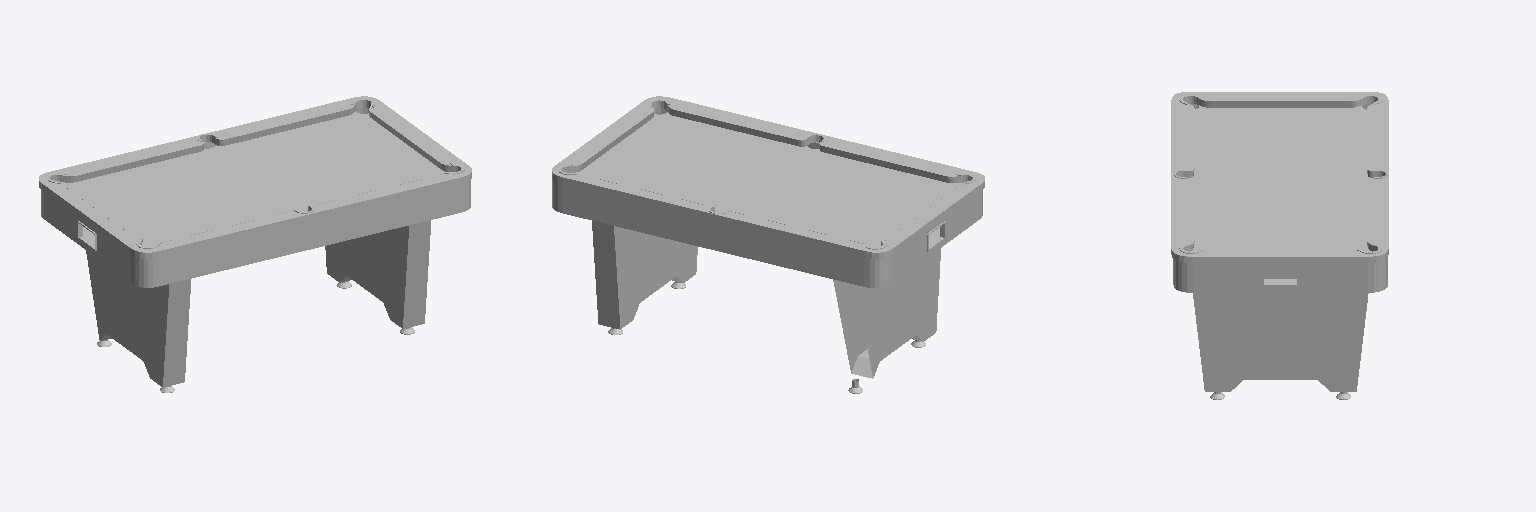
Rendered from Pool.obj.
The picture shows the model from 3 angles: view 1: azimuth 30°, elevation 25°; view 2: azimuth 150°, elevation 25°; view 3: azimuth 270°, elevation 25°; orthographic projection.
Visible parts, largest first — view 1: Object_2; view 2: Object_2; view 3: Object_2.
Boxes of the visible parts, x1=… form: Object_2: x1=39, y1=96, x2=471, y2=392; Object_2: x1=552, y1=96, x2=984, y2=393; Object_2: x1=1171, y1=92, x2=1388, y2=399.
Size of the model in its own units: 2.41 by 1.12 by 1.34.